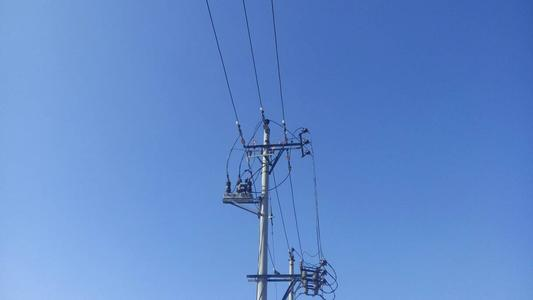utility_pole: (217, 112, 316, 213), (243, 244, 340, 300)
